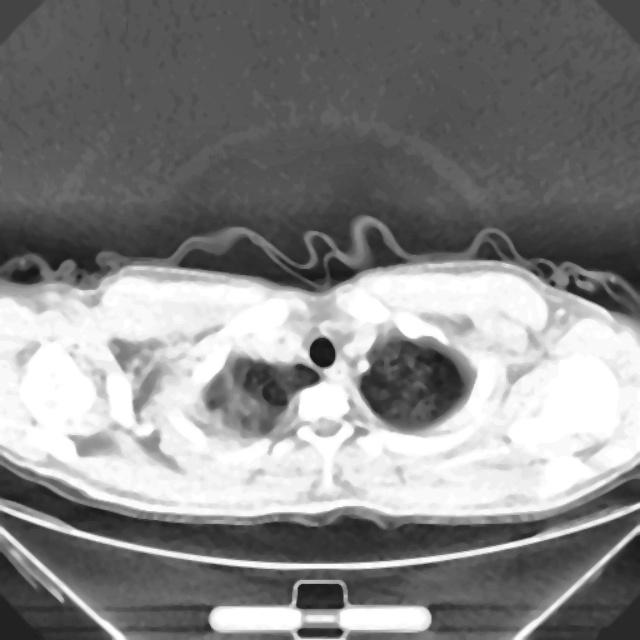covid: (0, 223, 639, 529)
